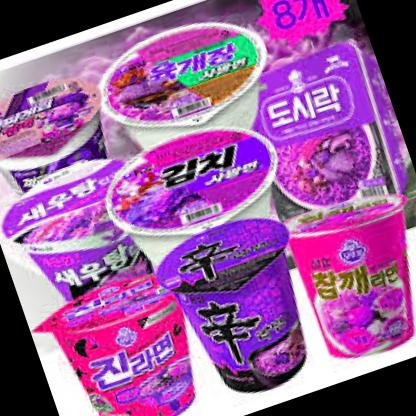Ramen: (97, 105, 295, 281), (152, 214, 330, 406), (88, 0, 291, 168), (0, 151, 178, 329), (31, 261, 222, 416), (274, 175, 416, 373), (0, 63, 126, 208)
